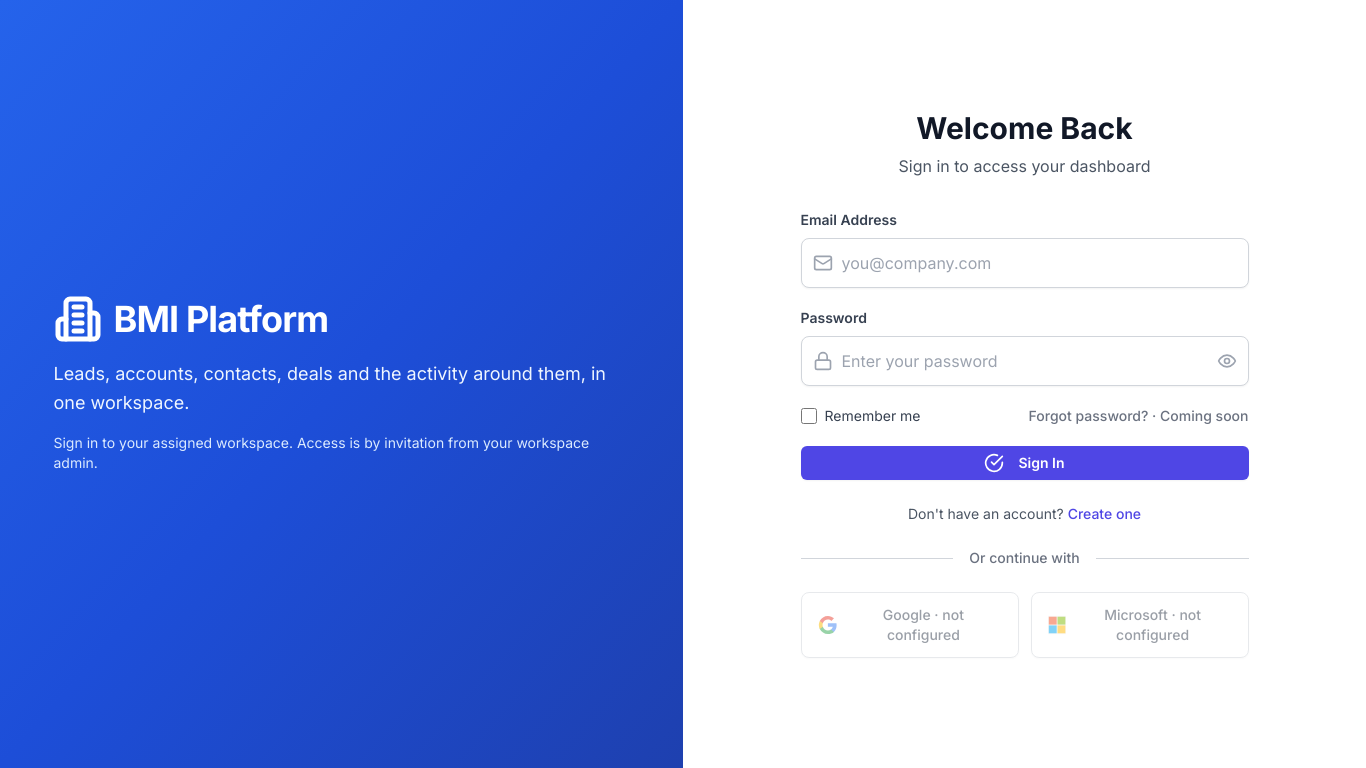
Test case: Login — attempts left come from the server › says nothing while plenty remain, or when the server sent no count
Type "asha@kora.example" into the field with id "email" at (1024, 263), box [800,238,1248,288]
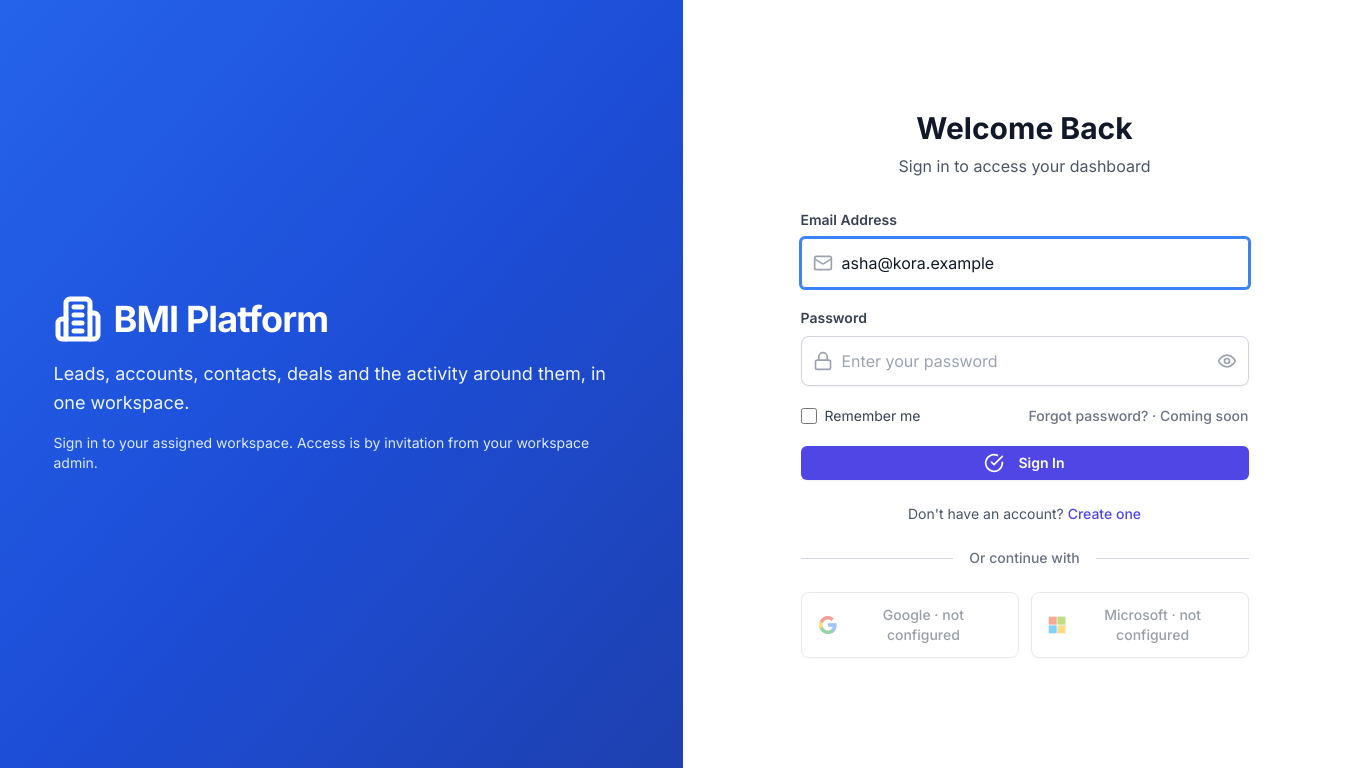
Type "wrong-password" into the password field labelled "Password" at (1024, 361), box [800,336,1248,386]
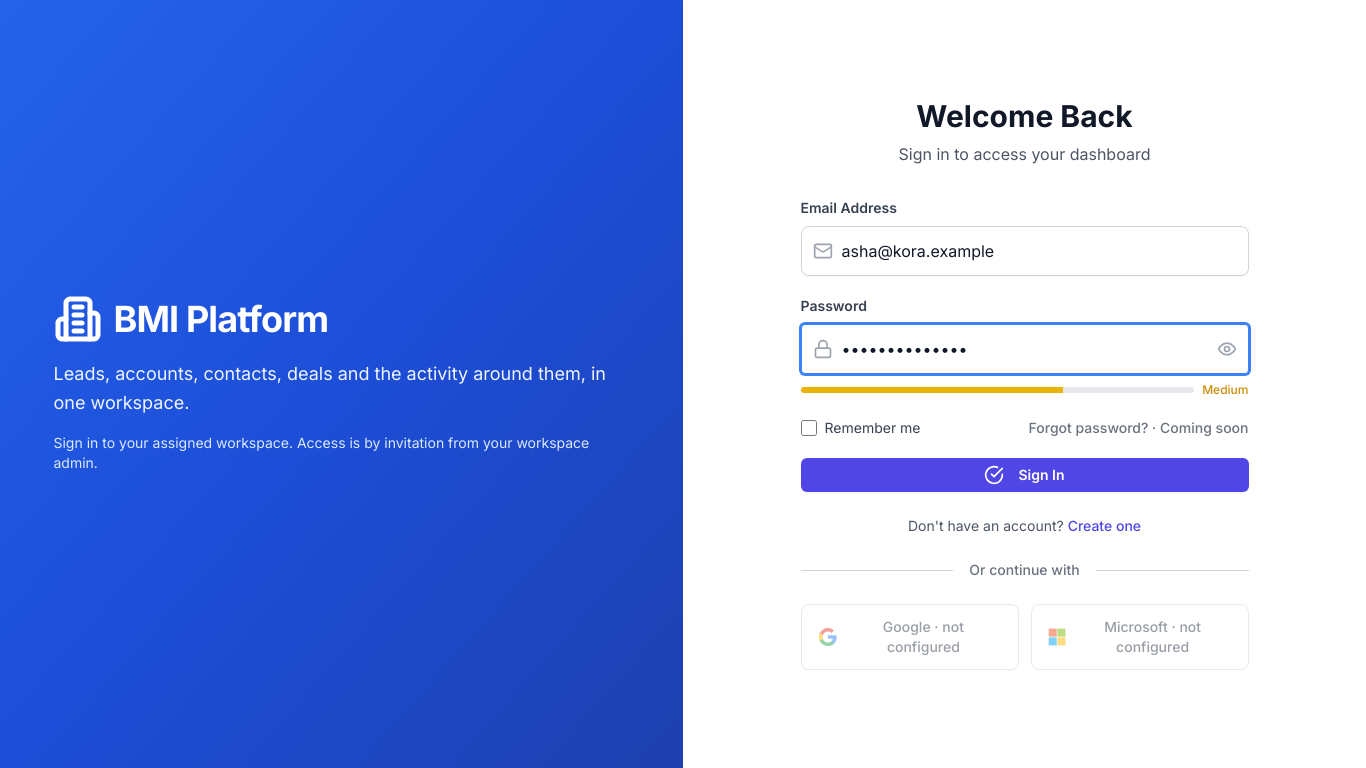
Click the button "Sign In" at (1024, 475), box [800,458,1248,492]
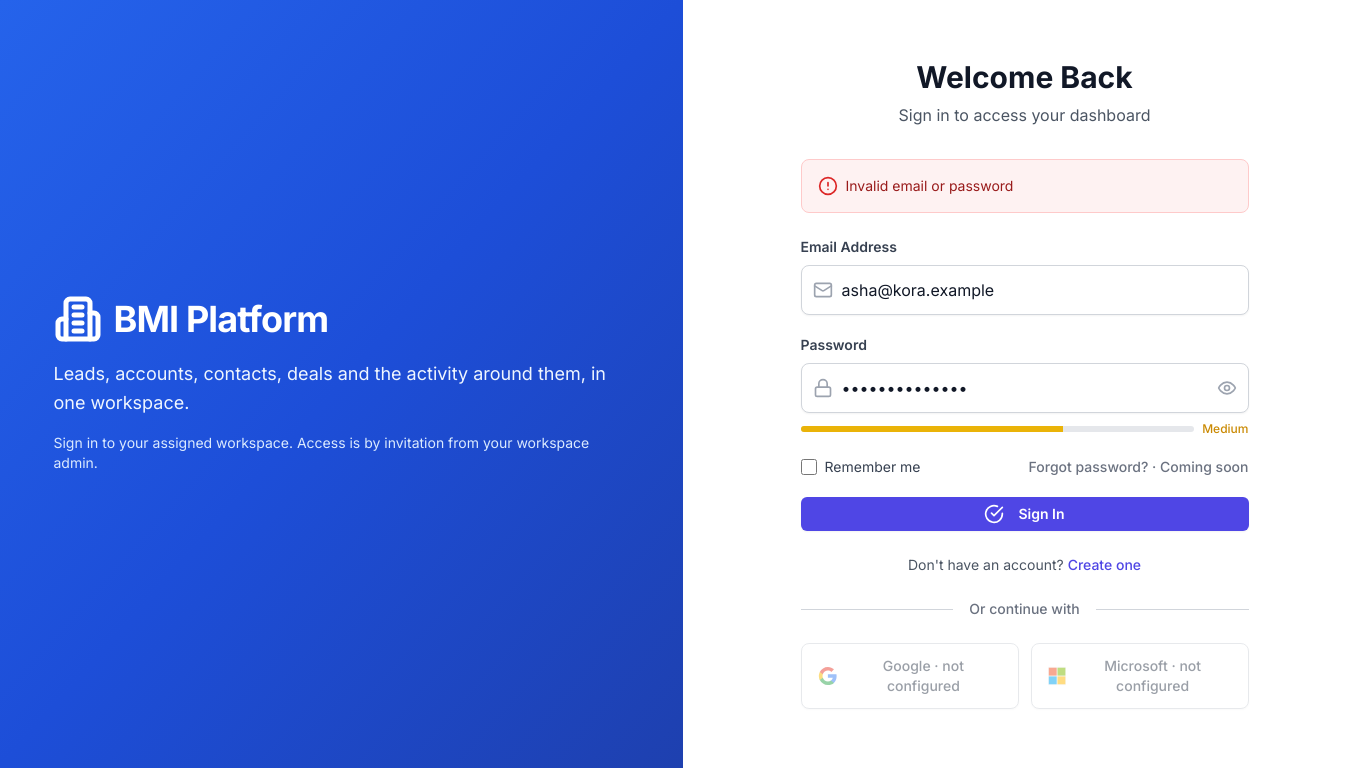
Result: the text "Invalid email or password" is shown at [846,176,1014,196]
